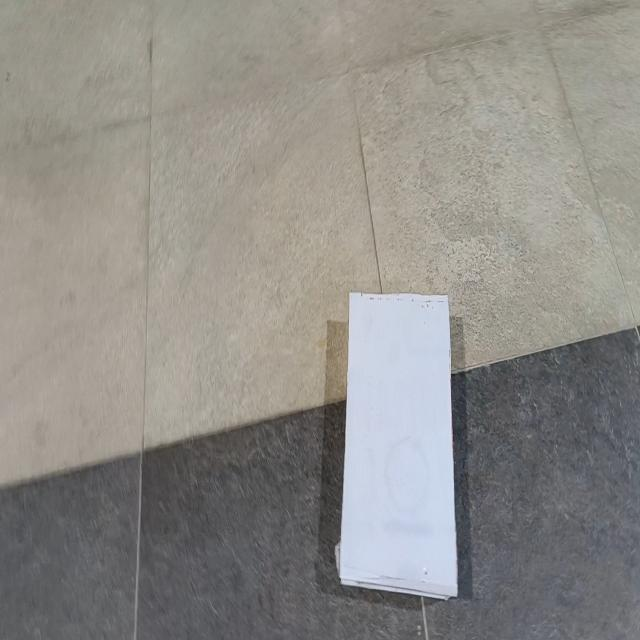Cuboid: (336, 290, 459, 600)
